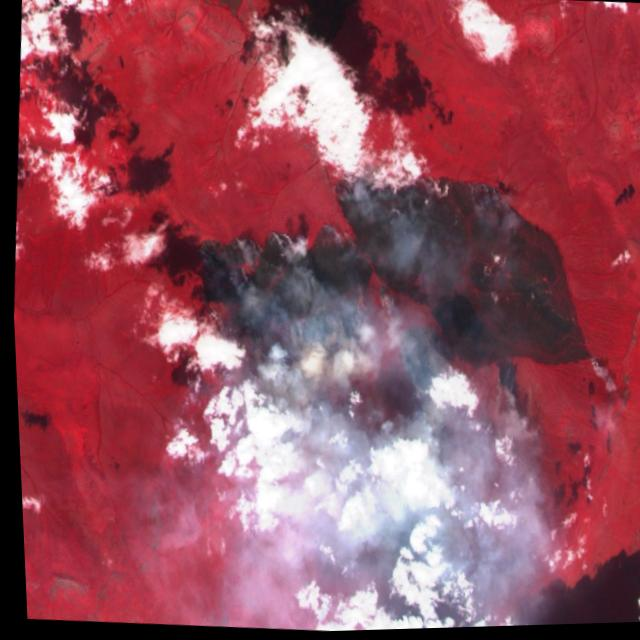fire: (174, 138, 615, 430)
